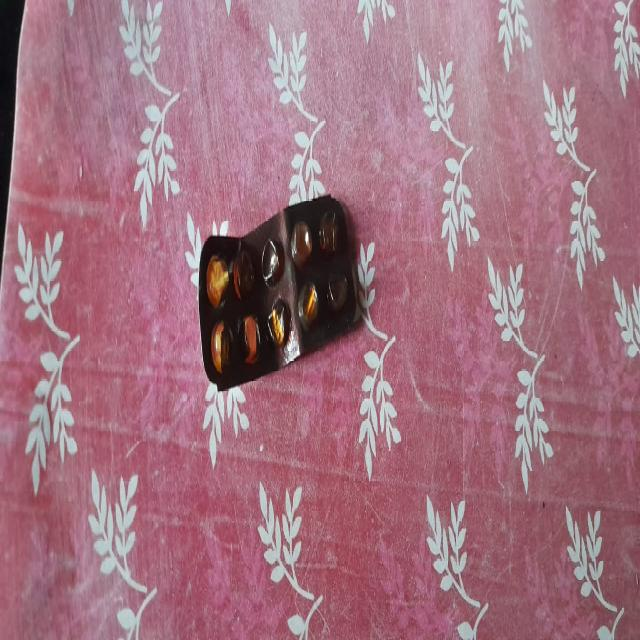Blister_Packs - Non Recyclable: (196, 190, 358, 393)
